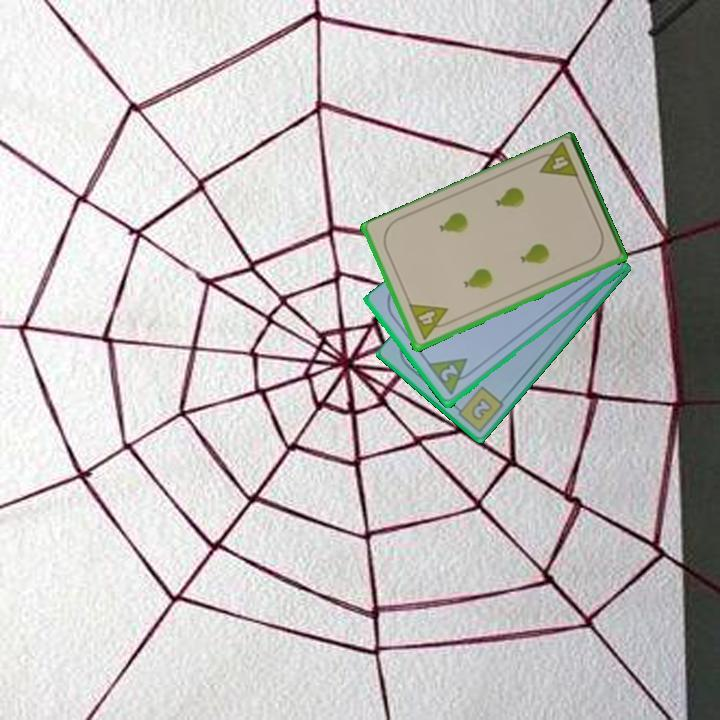2b: (450, 383, 507, 435)
2p: (425, 354, 478, 399)
4p: (530, 140, 582, 183), (405, 300, 455, 343)
